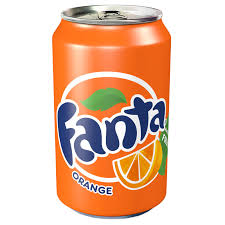fanta: (53, 10, 165, 212)
